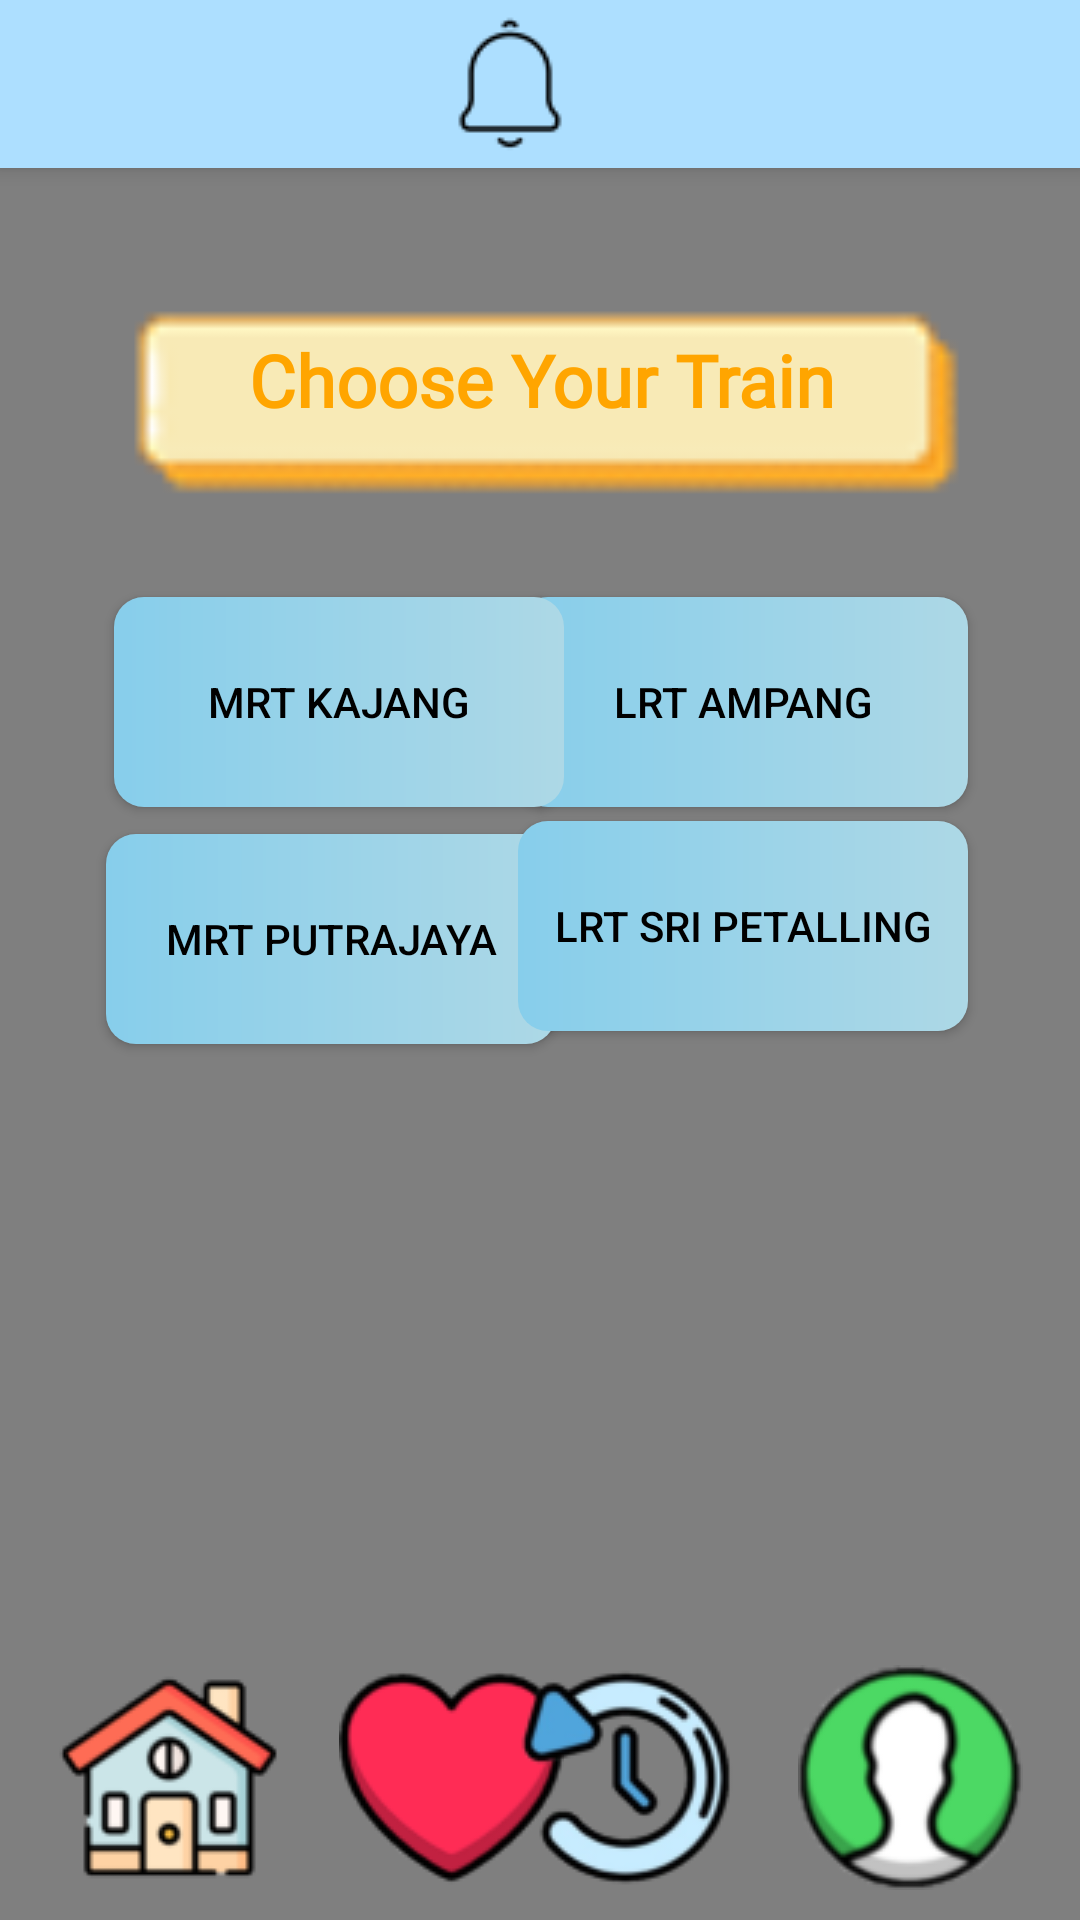

Screen size 1080x1920. Icon name, then its box in pixels as rect(x1, y1, x2, y2):
heart: rect(339, 1673, 564, 1882)
history: rect(516, 1673, 730, 1882)
home: rect(62, 1679, 277, 1876)
notification: rect(458, 18, 562, 148)
profile: rect(798, 1667, 1021, 1888)
